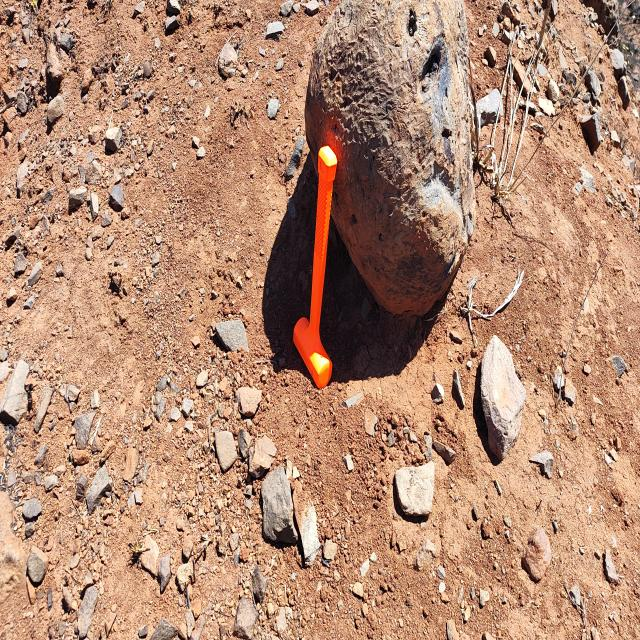Orange_hammer: (292, 144, 338, 389)
